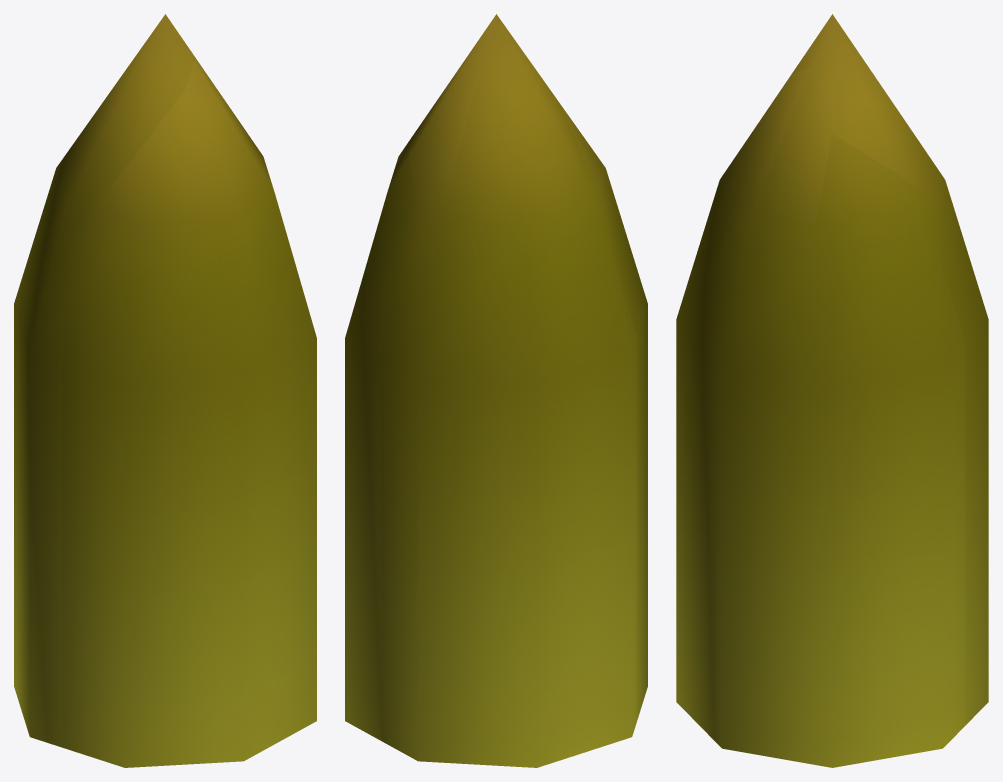
Rendered from tank_shell.fbx.
3 renders of one model, left to right at view 1: azimuth 30°, elevation 25°; view 2: azimuth 150°, elevation 25°; view 3: azimuth 270°, elevation 25°, orthographic.
Visible parts, largest first — view 1: pCylinder1; view 2: pCylinder1; view 3: pCylinder1.
Part boxes in pixels (left/top/right/bottom): pCylinder1: left=14, top=14, right=316, bottom=767; pCylinder1: left=345, top=14, right=647, bottom=767; pCylinder1: left=676, top=14, right=988, bottom=767.
Size of the model in its own units: 2 by 4.86 by 2.
1 material, 1 textured.
